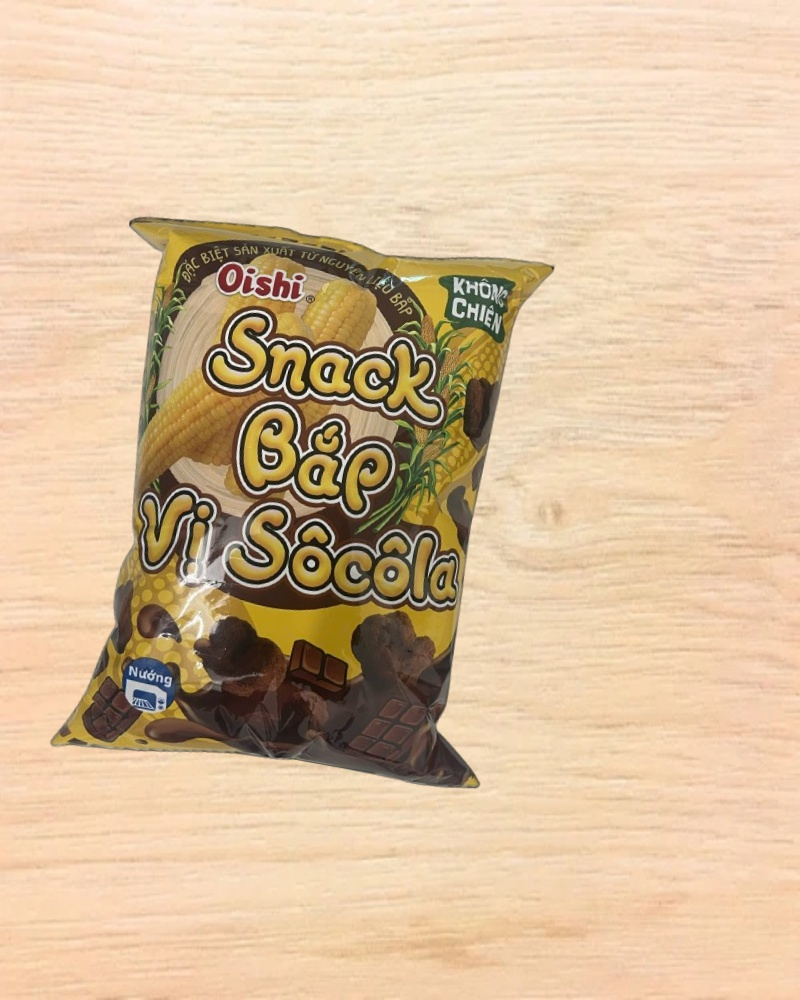Snack socola: (43, 196, 571, 809)
